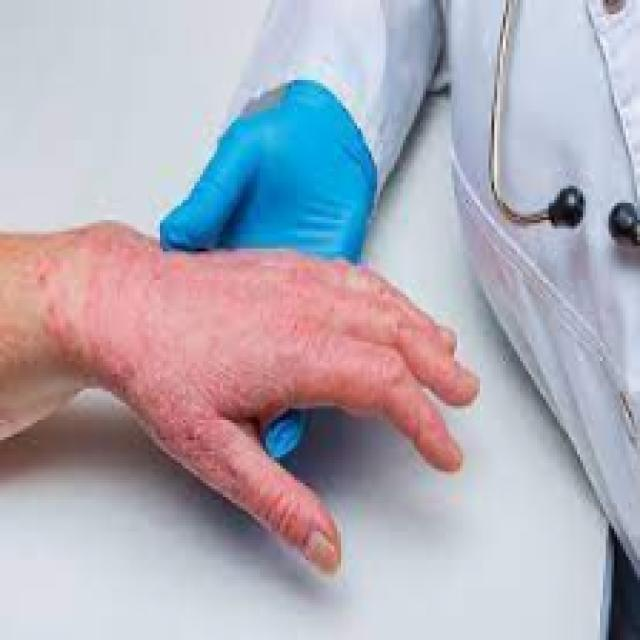Eczema: (34, 235, 418, 552)
